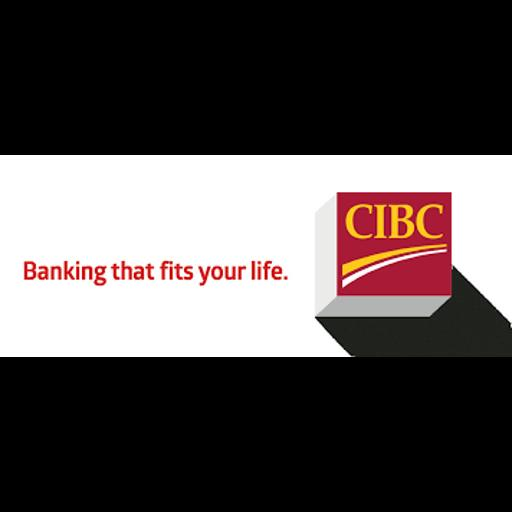Canadian Imperial Bank of Commerce: (0, 155, 512, 357)
